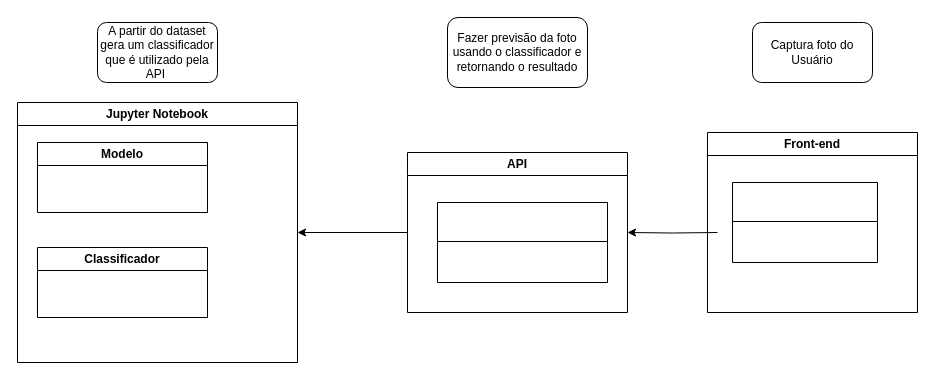
Some shapes in this 935 by 380 pixel diagram are drawn without their labels. Here are the shapes that lost their labels. From the top down, the centre of each, then its label:
the point at 522,242: Classificador POST /classifier
the point at 805,222: Mobile APP
